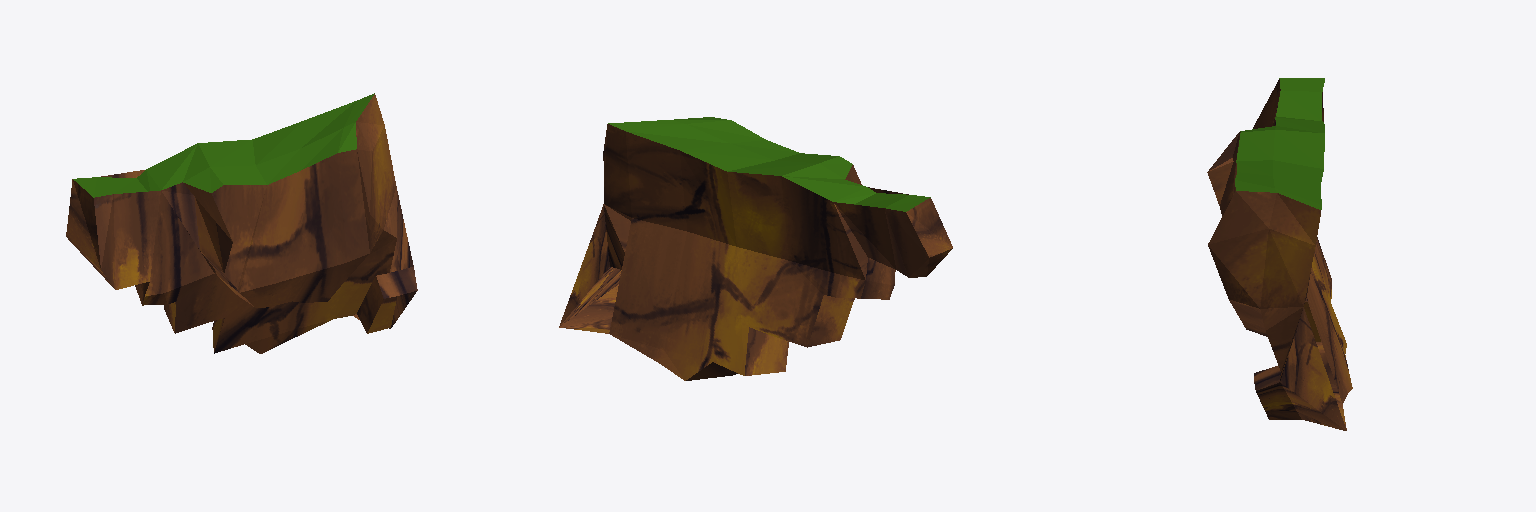
3 renders of one model, left to right at view 1: azimuth 30°, elevation 25°; view 2: azimuth 150°, elevation 25°; view 3: azimuth 270°, elevation 25°, orthographic.
Parts seen in each view (by area): view 1: Plane.044_Plane.048; view 2: Plane.044_Plane.048; view 3: Plane.044_Plane.048.
Part boxes in pixels (bbox=[...]): Plane.044_Plane.048: bbox=[66, 93, 417, 353]; Plane.044_Plane.048: bbox=[559, 117, 952, 380]; Plane.044_Plane.048: bbox=[1207, 78, 1352, 430].
Size of the model in its own units: 168 by 103 by 60.14.
Materials: 1 (1 with a texture image).